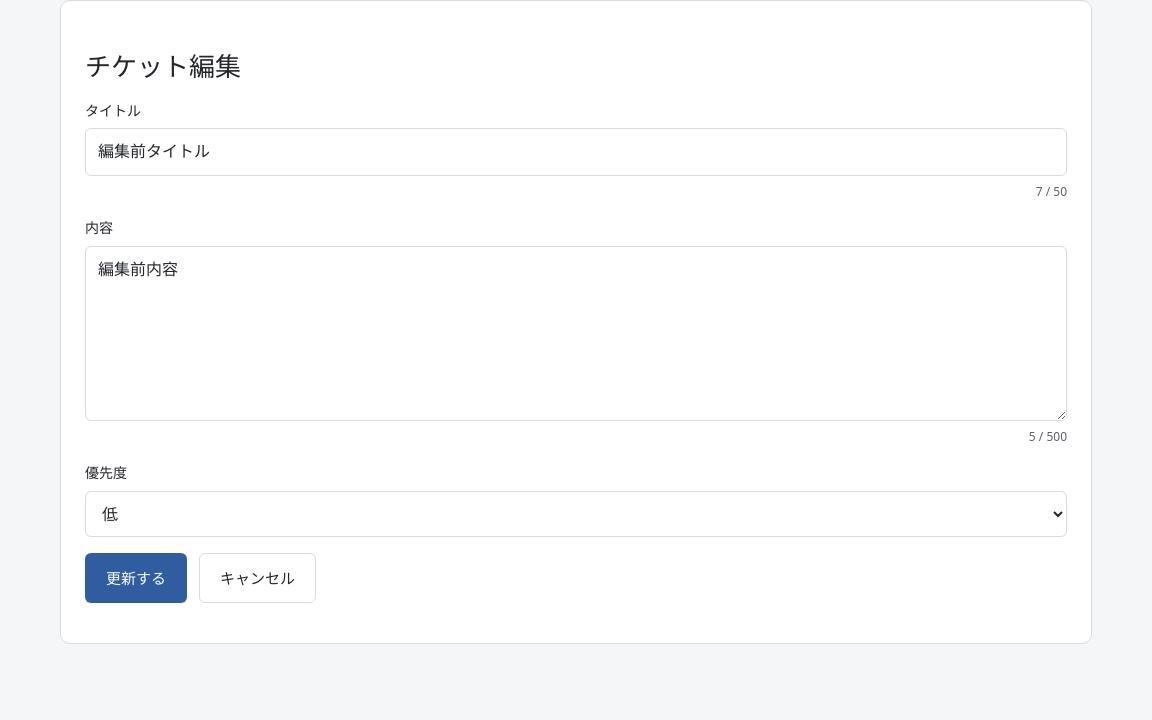
Test case: TicketEditPage › 送信中はボタンがdisabledになる
The image size is (1152, 720).
Expected: the field labelled "タイトル" is shown, x1=85 y1=128 x2=1067 y2=176
Click the button "更新する": (136, 578) x1=85 y1=553 x2=187 y2=603
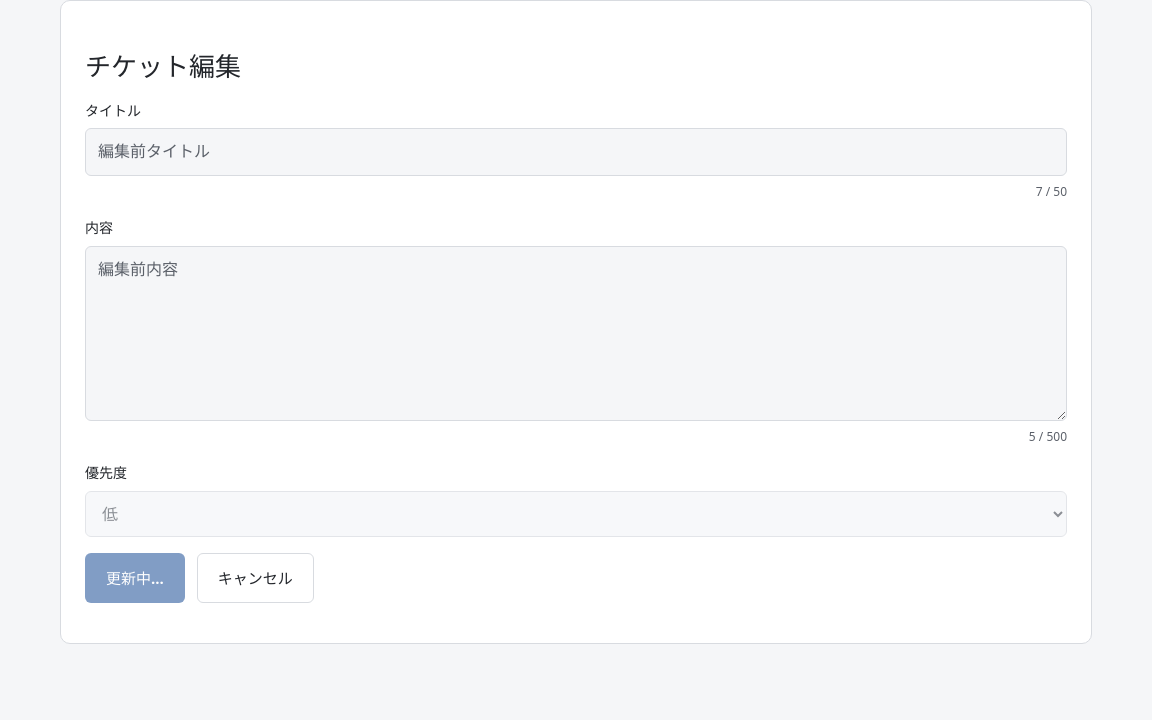
Expected: the button "更新中..." is disabled, x1=85 y1=553 x2=185 y2=603
